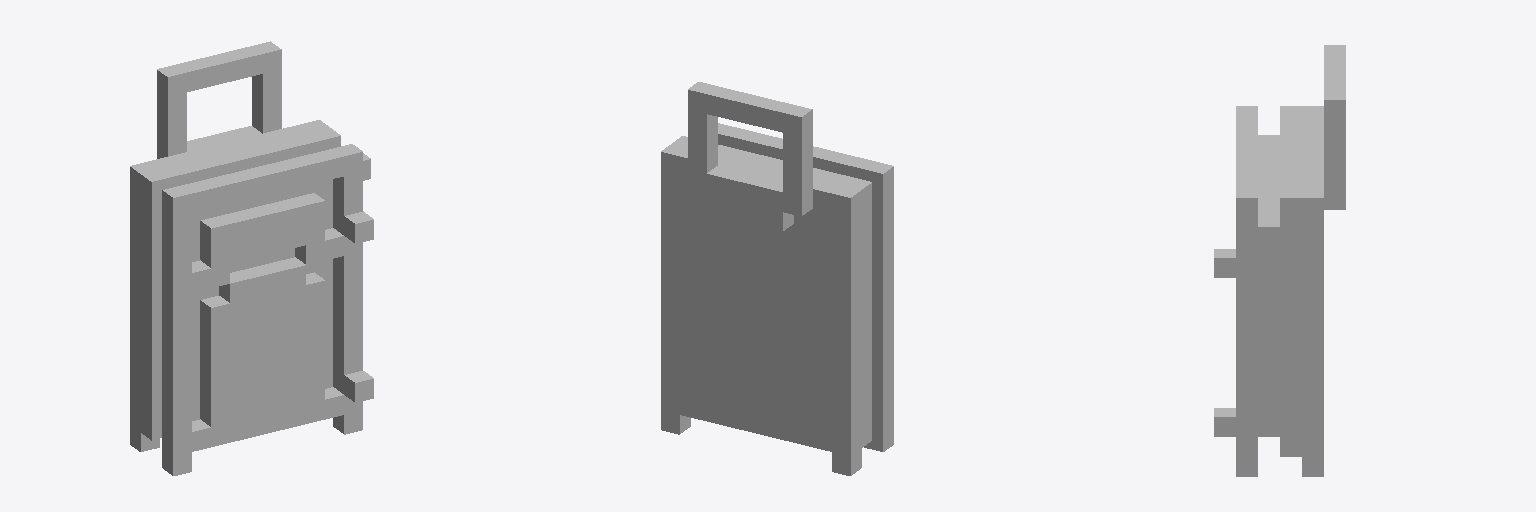
Rendered from suitcase.obj.
The picture shows the model from 3 angles: view 1: azimuth 30°, elevation 25°; view 2: azimuth 150°, elevation 25°; view 3: azimuth 270°, elevation 25°; orthographic projection.
Visible parts, largest first — view 1: object 1; view 2: object 1; view 3: object 1.
Boxes of the visible parts, x1,y1,x2,y2 form: object 1: [130, 41, 373, 475]; object 1: [661, 82, 893, 475]; object 1: [1214, 45, 1345, 476].
Bounding box in the file's own units: 1.1 × 1.8 × 0.6.